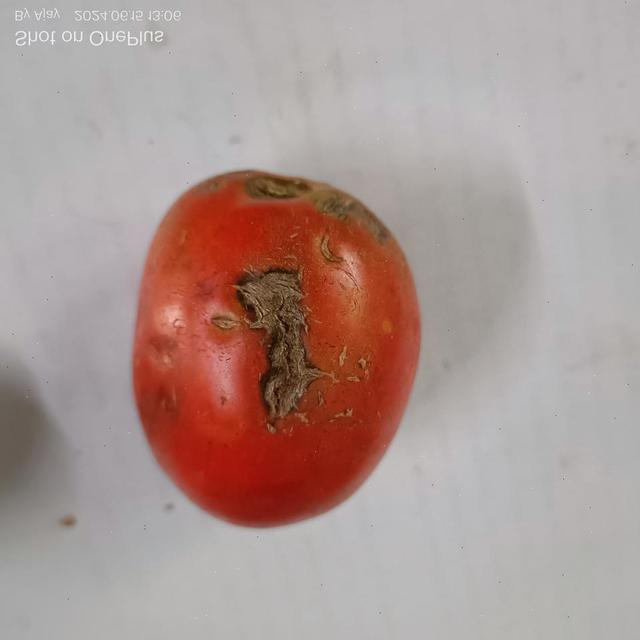Bacterial Spot Fruit: (158, 174, 211, 289)
